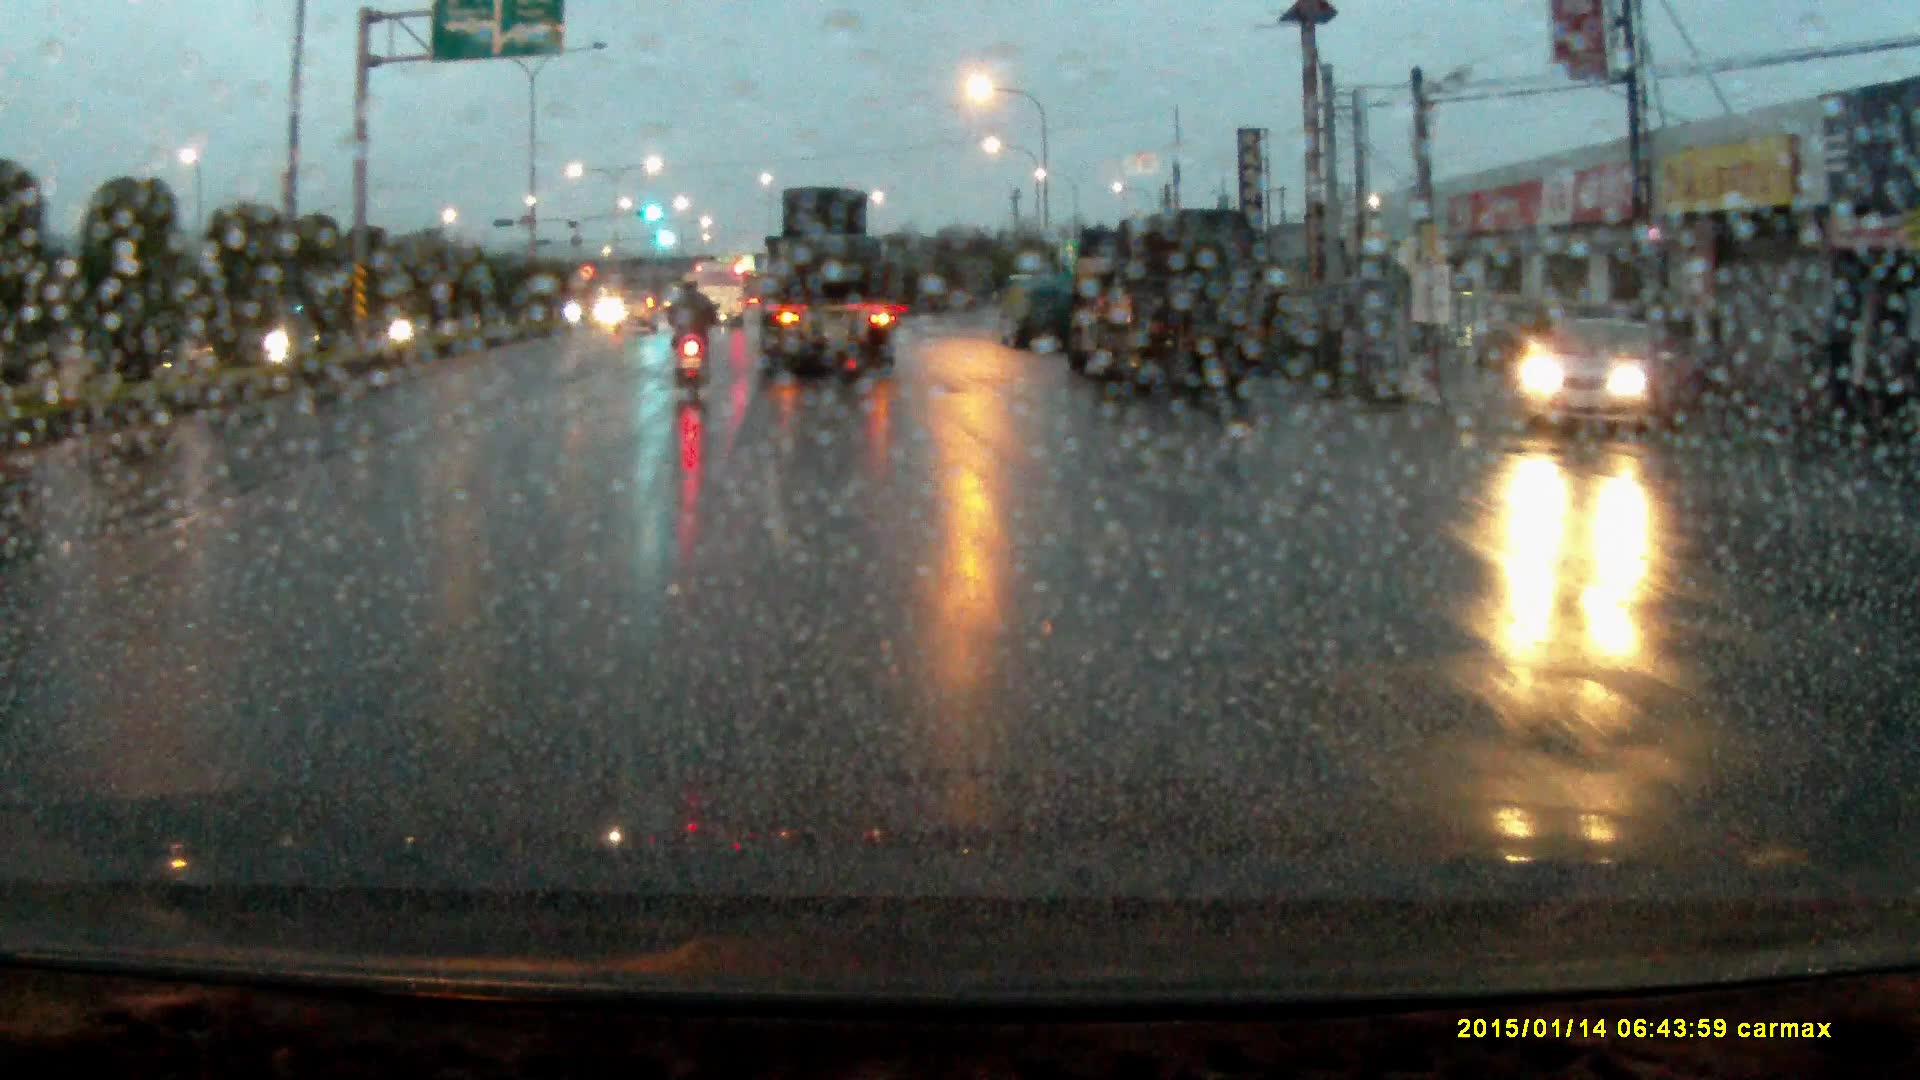rider: (664, 271, 722, 405)
vehicle: (1068, 204, 1271, 405), (759, 191, 898, 383), (1511, 309, 1703, 437), (1001, 273, 1080, 352), (695, 262, 744, 326), (606, 288, 658, 336)
